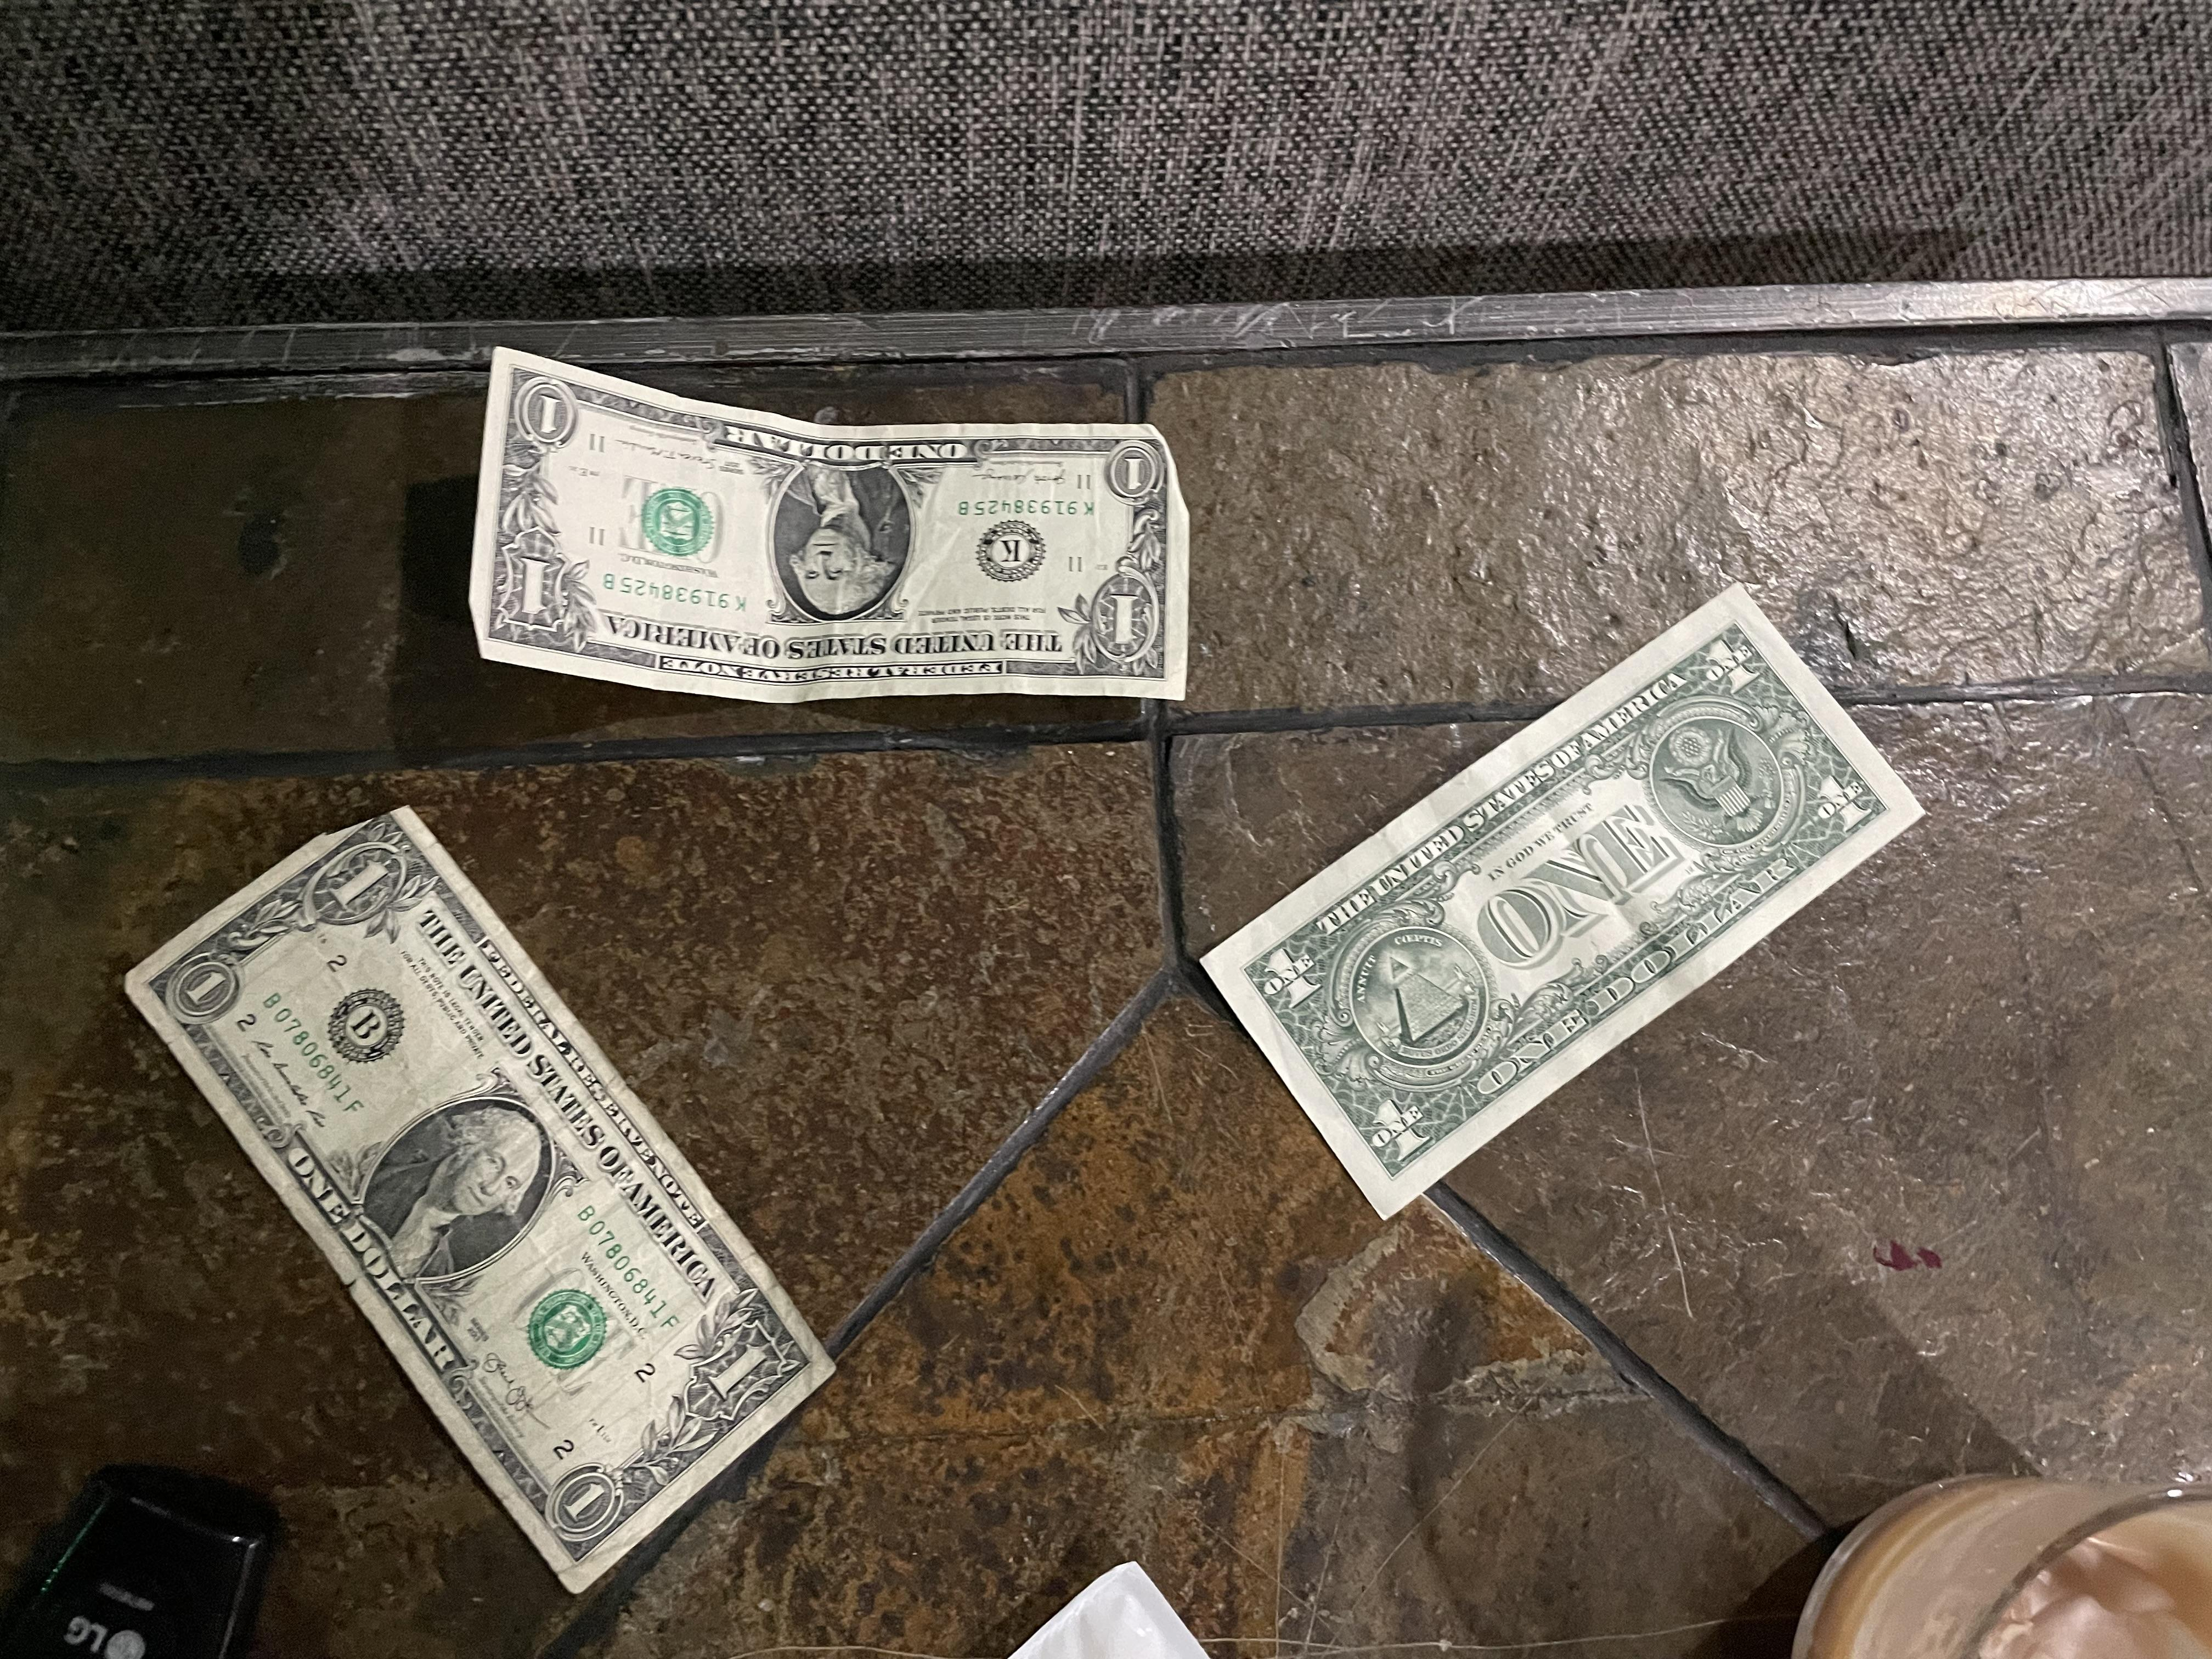OneBill: (108, 795, 853, 1589), (1176, 573, 1942, 1222), (456, 347, 1216, 737)
